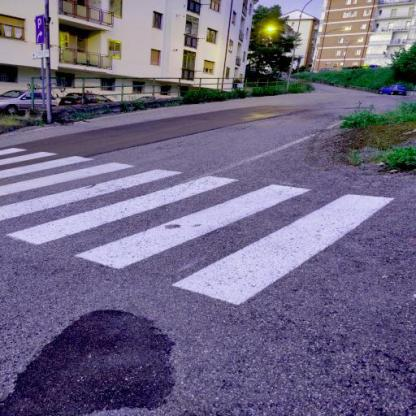crosswalk: (68, 152, 400, 331)
